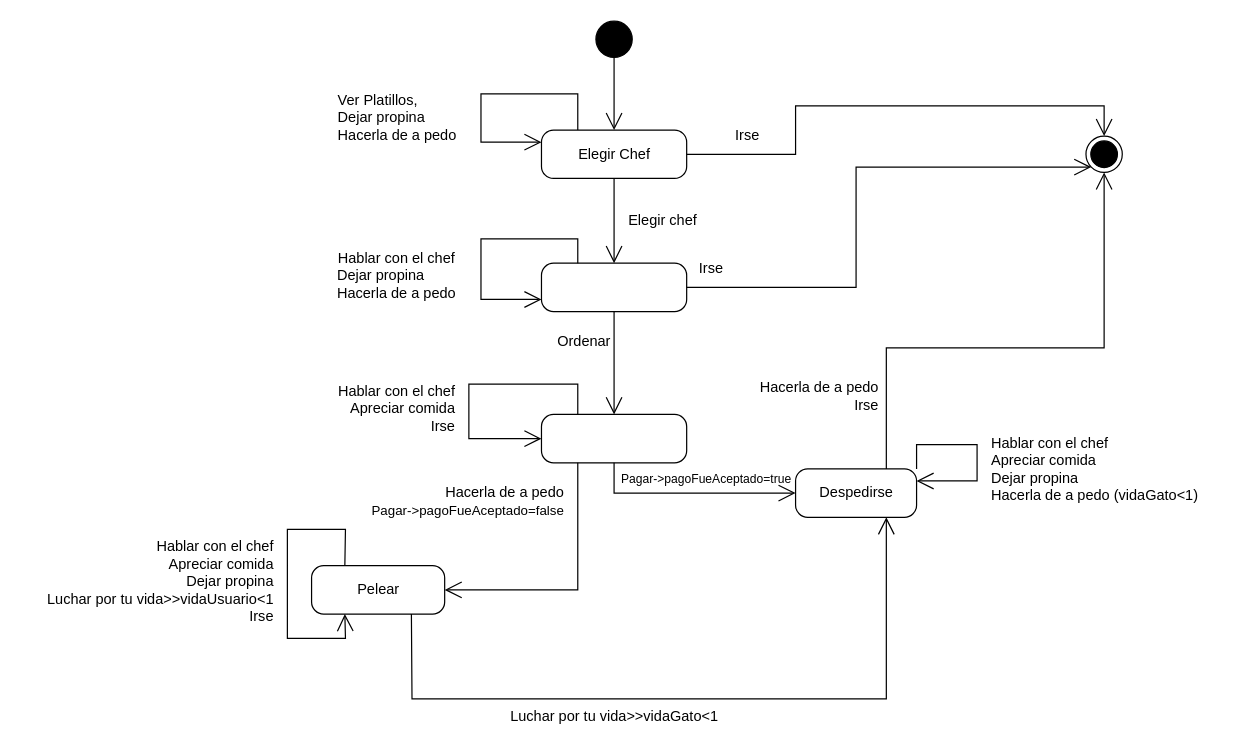
Some shapes in this 1239 by 756 pixel diagram are drawn without their labels. The shapes that lost their labels are listed below. From the top down, each one's box as (x1, y1, x2, y2) in pixels, then its label:
(540, 262, 687, 312): Crear Platillo
(540, 413, 687, 463): Pagar
